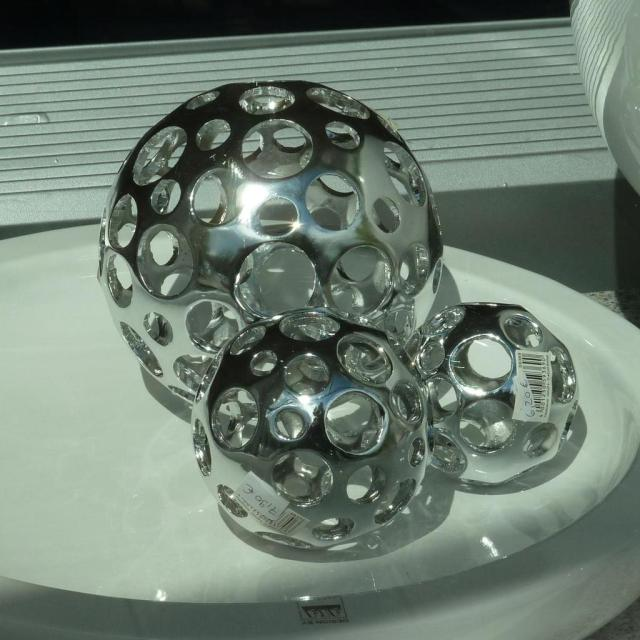Ball: (97, 80, 443, 404), (189, 307, 427, 548), (402, 301, 580, 488)
